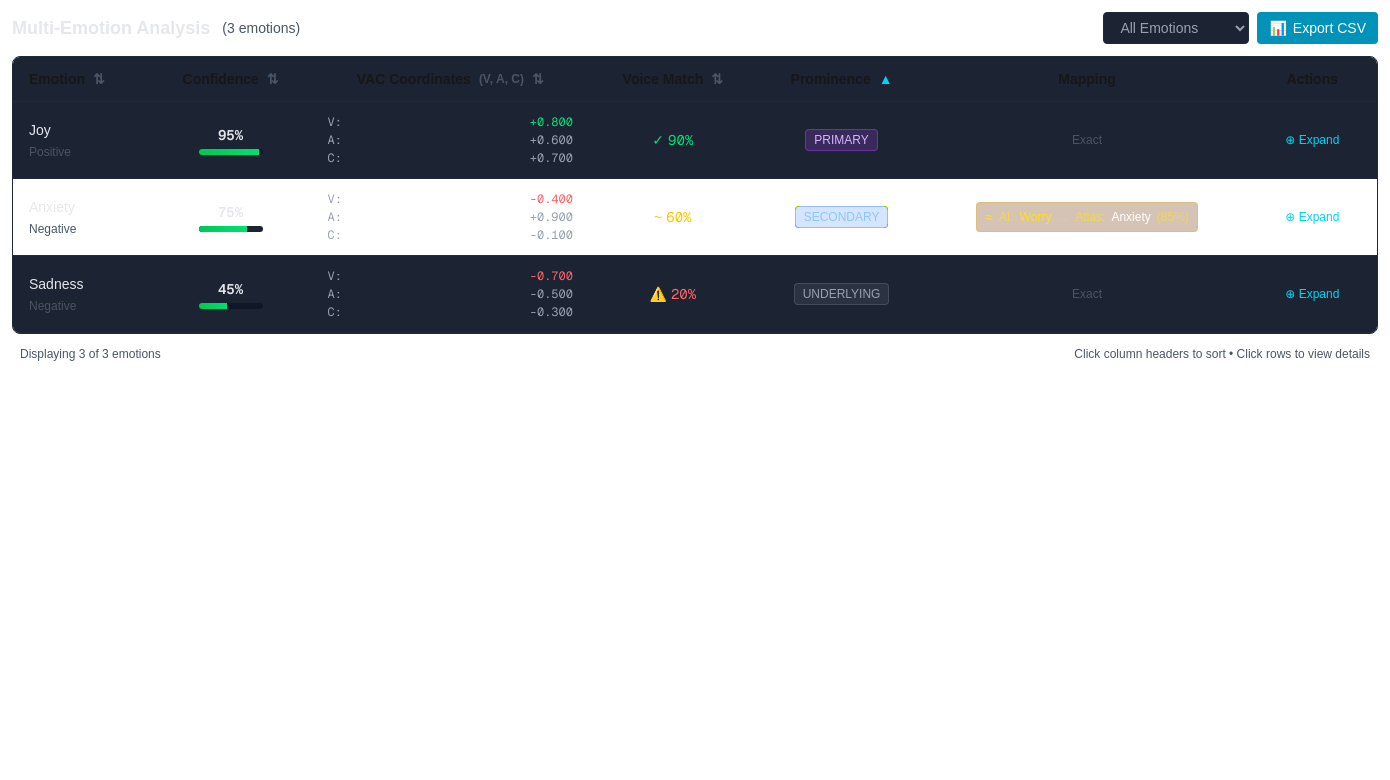
Scenario: MultiEmotionTable › expands row details
# Expand Joy
Click the button "⊕ Expand" in the row of "Joy" at (1312, 140), box [1277,128,1347,152]
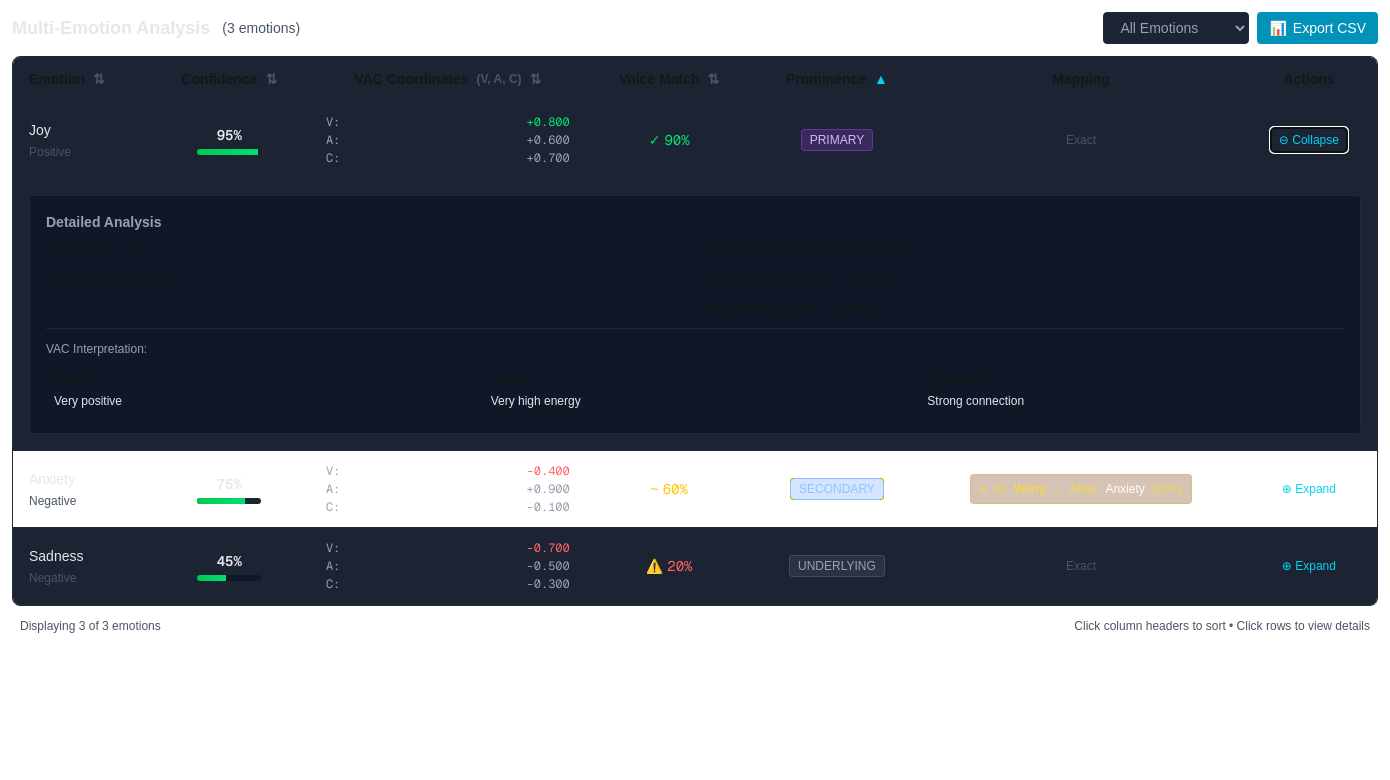
expect the heading "Detailed Analysis" is shown: met, box [46,214,161,230]
expect the text "Very positive" is shown: met, box [54,394,122,408]
expect the text "Very high energy" is shown: met, box [491,394,581,408]
Click the button "⊖ Collapse" at (1309, 140), box [1271,128,1347,152]
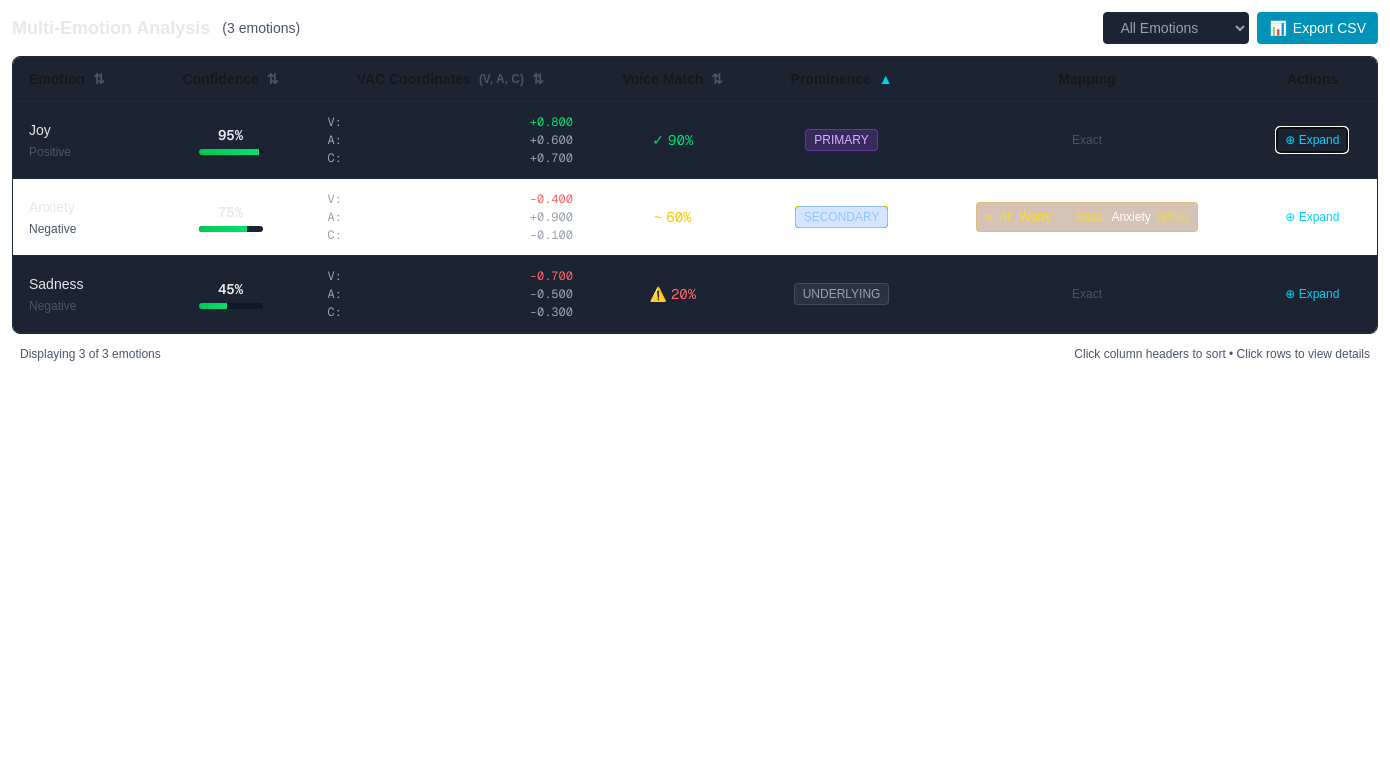
expect the heading "Detailed Analysis" is gone: met
